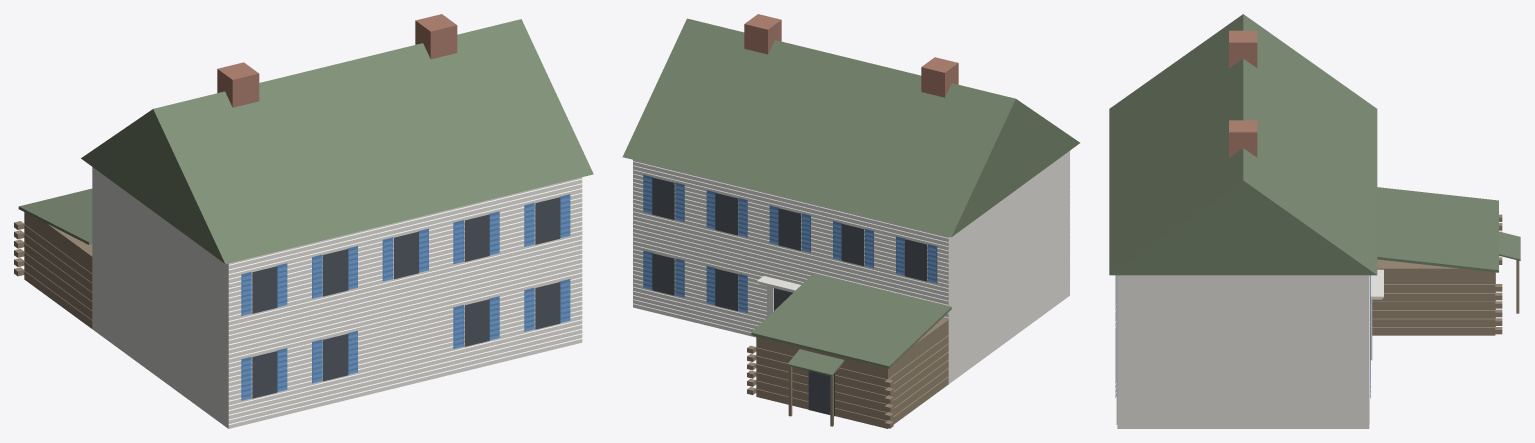
The model's file is sauganash_hotel__frame_1831.glb.
3 views of the same model, side by side, from view 1: azimuth 30°, elevation 25°; view 2: azimuth 150°, elevation 25°; view 3: azimuth 270°, elevation 25° (orthographic). The views are drawn at different scales.
Parts seen in each view (by area): view 1: sauganash_hotel__frame_1831; view 2: sauganash_hotel__frame_1831; view 3: sauganash_hotel__frame_1831.
Boxes of the visible parts, x1,y1,x2,y2 form: sauganash_hotel__frame_1831: (14, 14, 593, 428); sauganash_hotel__frame_1831: (622, 14, 1079, 428); sauganash_hotel__frame_1831: (1109, 14, 1520, 428).
Size of the model in its own units: 12.5 by 9.37 by 13.05.
